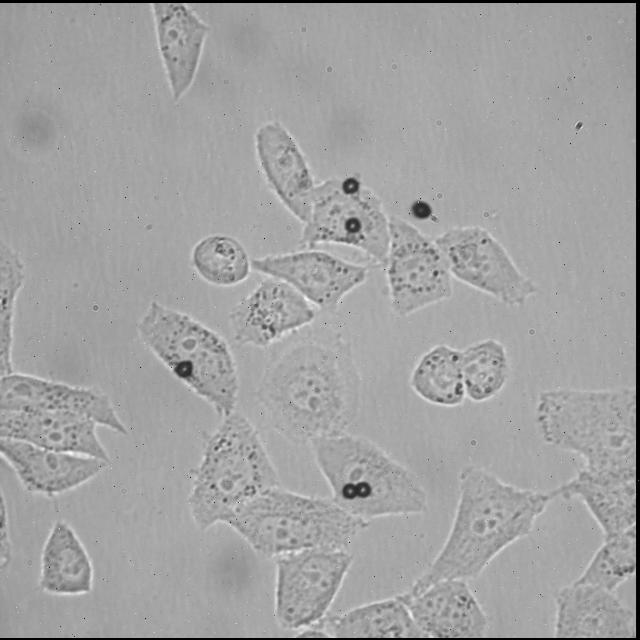microbeads: (341, 217, 362, 236), (356, 479, 374, 501), (339, 479, 356, 501), (176, 357, 194, 377), (342, 175, 360, 192)
